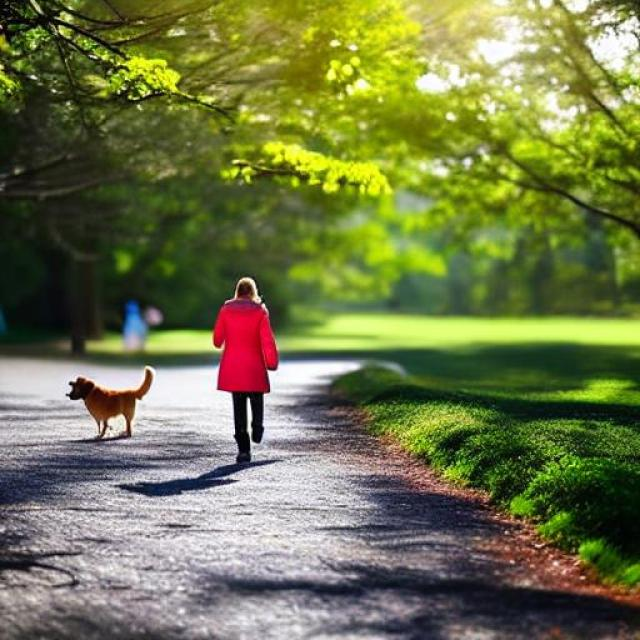Unleashed_Dog: (64, 339, 266, 440)
